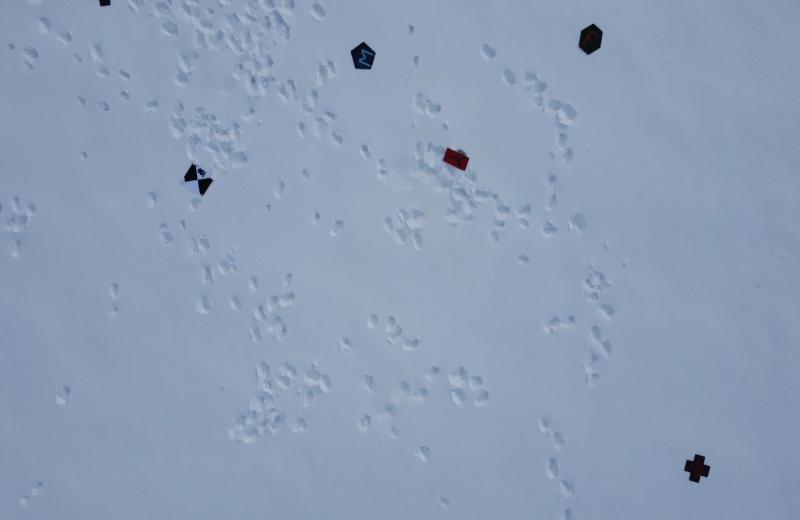Cross: (682, 450, 714, 484)
Hexagon: (574, 22, 605, 59)
Pentagon: (349, 39, 378, 74)
Rectangle: (440, 144, 474, 175)
